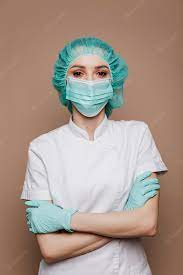with_mask_and_cap: (58, 39, 118, 117)
